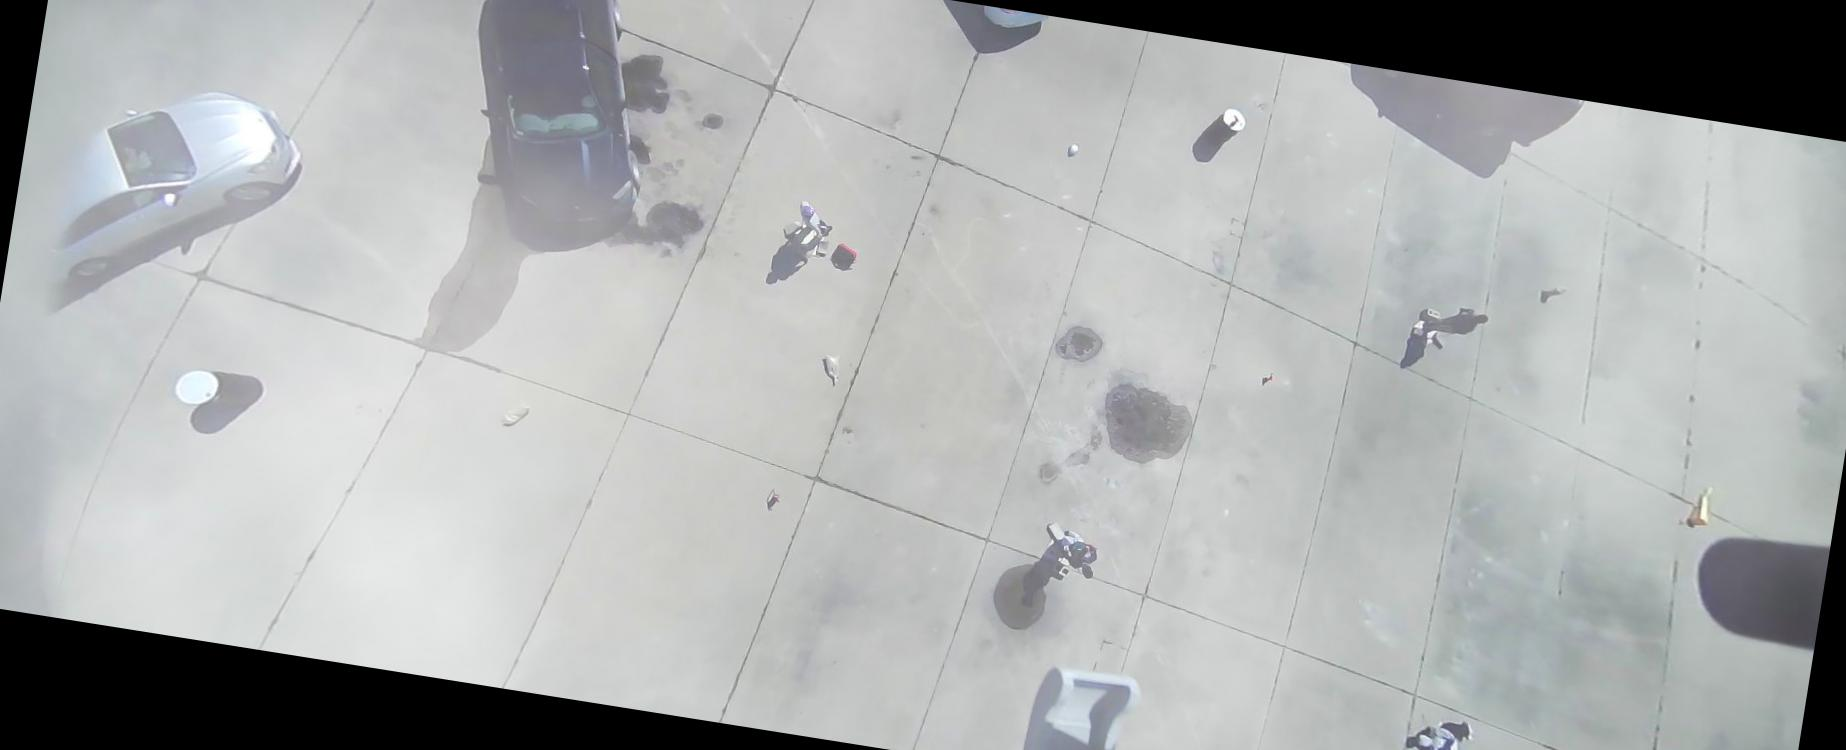vehicle: (39, 66, 311, 321), (436, 0, 678, 239), (1369, 68, 1585, 155), (980, 6, 1051, 35)
